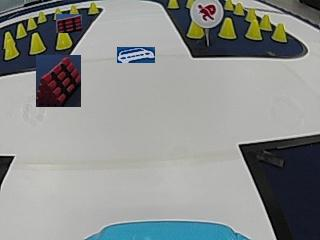thief: (189, 0, 224, 27)
